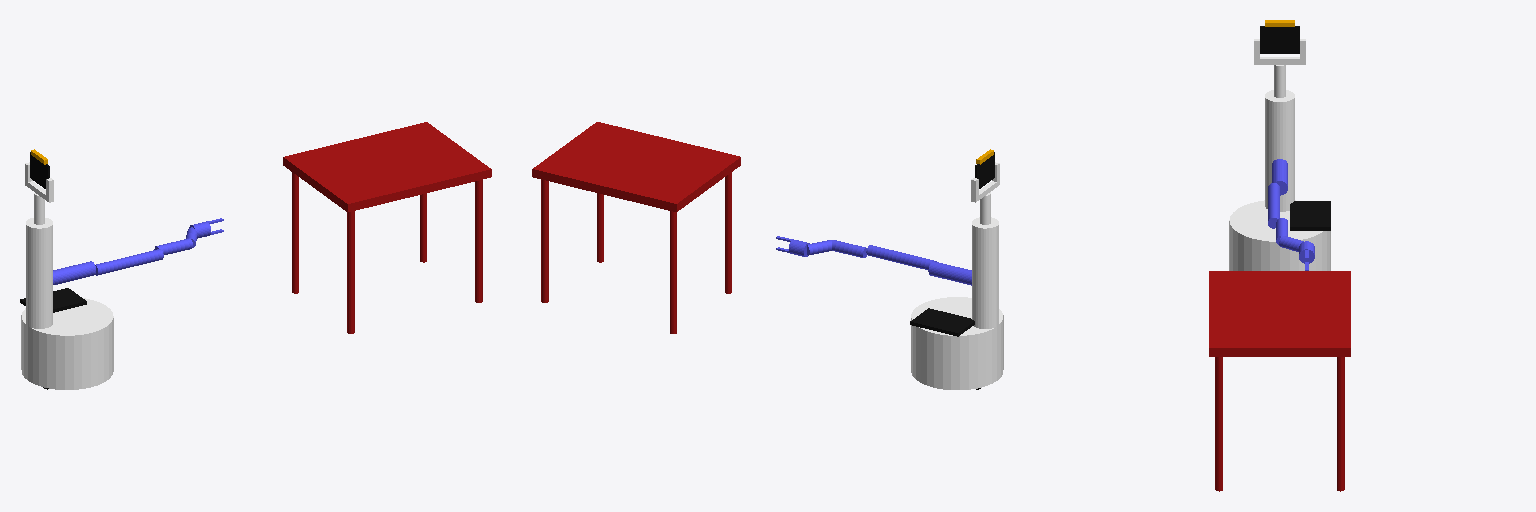
URDF robot description (korus):
<?xml version="1.0" ?>
<!-- =================================================================================== -->
<!-- |    This document was autogenerated by xacro from korus_robosem_base_back_mount_jaco_arm.xacro | -->
<!-- |    EDITING THIS FILE BY HAND IS NOT RECOMMENDED                                 | -->
<!-- =================================================================================== -->
<robot name="korus" xmlns:xacro="http://www.ros.org/wiki/xacro">
  <!-- ************************ omni drive simulation ************************* -->
  <link name="world">
  </link>
  <joint name="omni_drive_x" type="prismatic">
    <parent link="world"/>
    <child link="omni_drive_x_link"/>
    <origin rpy="0 0 0" xyz="-1.0 0 0"/>
    <axis xyz="1 0 0"/>
    <limit effort="10" lower="0.0" upper="2.0" velocity="1.0"/>
  </joint>
  <link name="omni_drive_x_link">
  </link>
  <joint name="omni_drive_y" type="prismatic">
    <parent link="omni_drive_x_link"/>
    <child link="base_footprint"/>
    <origin rpy="0 0 0" xyz="0.0 0 0"/>
    <axis xyz="0 1 0"/>
    <limit effort="10" lower="-1.0" upper="1.0" velocity="1.0"/>
  </joint>
  <!-- ************************ Robot model ************************* -->
  <link name="base_footprint"/>
  <joint name="base_joint" type="fixed">
    <parent link="base_footprint"/>
    <child link="base_link"/>
    <origin rpy="0 0 0" xyz="0.0 0.0 0.075"/>
  </joint>
  <link name="base_link">
    <visual>
      <origin rpy="0 0 0" xyz="0.0 0 0.0875"/>
      <geometry>
        <cylinder length="0.275" radius="0.250"/>
      </geometry>
      <material name="white">
        <color rgba="1 1 1 1"/>
      </material>
    </visual>
    <collision>
      <origin rpy="0 0 0" xyz="0.0 0 0.0875"/>
      <geometry>
        <cylinder length="0.275" radius="0.250"/>
      </geometry>
      <material name="white">
        <color rgba="1 1 1 1"/>
      </material>
    </collision>
  </link>
  <link name="wheel_left">
    <visual>
      <geometry>
        <cylinder length="0.03" radius="0.075"/>
      </geometry>
      <origin rpy="0 1.57079632679 0" xyz="0 0 0"/>
      <material name="black">
        <color rgba="0.1 0.1 0.1 1"/>
      </material>
    </visual>
  </link>
  <joint name="wheel_left" type="continuous">
    <parent link="base_link"/>
    <child link="wheel_left"/>
    <origin rpy="0 0 1.57079632679" xyz="0.0 0.15 0.0"/>
  </joint>
  <link name="wheel_right">
    <visual>
      <geometry>
        <cylinder length="0.03" radius="0.075"/>
      </geometry>
      <origin rpy="0 1.57079632679 0" xyz="0 0 0"/>
      <material name="black">
        <color rgba="0.1 0.1 0.1 1"/>
      </material>
    </visual>
  </link>
  <joint name="wheel_right" type="continuous">
    <parent link="base_link"/>
    <child link="wheel_right"/>
    <origin rpy="0 0 1.57079632679" xyz="0.0 -0.15 0.0"/>
  </joint>
  <link name="caster_front_left">
    <visual>
      <geometry>
        <cylinder length="0.02" radius="0.04"/>
      </geometry>
      <origin rpy="0 1.57079632679 0" xyz="0 0 0"/>
      <material name="black">
        <color rgba="0.1 0.1 0.1 1"/>
      </material>
    </visual>
  </link>
  <joint name="caster_front_left" type="fixed">
    <parent link="base_link"/>
    <child link="caster_front_left"/>
    <origin rpy="0 0 1.57079632679" xyz="0.18 0.1 -0.035"/>
  </joint>
  <link name="caster_front_right">
    <visual>
      <geometry>
        <cylinder length="0.02" radius="0.04"/>
      </geometry>
      <origin rpy="0 1.57079632679 0" xyz="0 0 0"/>
      <material name="black">
        <color rgba="0.1 0.1 0.1 1"/>
      </material>
    </visual>
  </link>
  <joint name="caster_front_right" type="fixed">
    <parent link="base_link"/>
    <child link="caster_front_right"/>
    <origin rpy="0 0 1.57079632679" xyz="0.18 -0.1 -0.035"/>
  </joint>
  <link name="caster_back_left">
    <visual>
      <geometry>
        <cylinder length="0.02" radius="0.04"/>
      </geometry>
      <origin rpy="0 1.57079632679 0" xyz="0 0 0"/>
      <material name="black">
        <color rgba="0.1 0.1 0.1 1"/>
      </material>
    </visual>
  </link>
  <joint name="caster_back_left" type="fixed">
    <parent link="base_link"/>
    <child link="caster_back_left"/>
    <origin rpy="0 0 1.57079632679" xyz="-0.18 0.1 -0.035"/>
  </joint>
  <link name="caster_back_right">
    <visual>
      <geometry>
        <cylinder length="0.02" radius="0.04"/>
      </geometry>
      <origin rpy="0 1.57079632679 0" xyz="0 0 0"/>
      <material name="black">
        <color rgba="0.1 0.1 0.1 1"/>
      </material>
    </visual>
  </link>
  <joint name="caster_back_right" type="fixed">
    <parent link="base_link"/>
    <child link="caster_back_right"/>
    <origin rpy="0 0 1.57079632679" xyz="-0.18 -0.1 -0.035"/>
  </joint>
  <joint name="body" type="revolute">
    <parent link="base_link"/>
    <child link="body_link"/>
    <origin rpy="0 0 0" xyz="0.0 0.0 0.250"/>
    <axis xyz="0 0 1"/>
    <limit effort="10" lower="-3.14159265359" upper="3.14159265359" velocity="0.013"/>
  </joint>
  <link name="body_link">
    <visual>
      <origin rpy="0 0 0" xyz="0.0 0.0 0.0"/>
      <geometry>
        <cylinder length="0.05" radius="0.25"/>
      </geometry>
      <material name="white">
        <color rgba="1 1 1 1"/>
      </material>
    </visual>
    <collision>
      <origin rpy="0 0 0" xyz="0.0 0.0 0.0"/>
      <geometry>
        <cylinder length="0.05" radius="0.25"/>
      </geometry>
      <material name="white">
        <color rgba="1 1 1 1"/>
      </material>
    </collision>
  </link>
  <joint name="tray_joint" type="revolute">
    <parent link="base_link"/>
    <child link="tray_link"/>
    <origin rpy="0 0 0" xyz="0.0 0.0 0.250"/>
    <axis xyz="0 0 1"/>
    <limit effort="10" lower="-3.14159265359" upper="3.14159265359" velocity="0.013"/>
  </joint>
  <link name="tray_link">
    <visual>
      <geometry>
        <box size="0.30 0.20 0.02"/>
      </geometry>
      <origin rpy="0 0.0 0" xyz="0.0 0.15 0.05"/>
      <material name="black">
        <color rgba="0.1 0.1 0.1 1"/>
      </material>
    </visual>
    <collision>
      <geometry>
        <box size="0.30 0.20 0.02"/>
      </geometry>
      <origin rpy="0 0.0 0" xyz="0.0 0.15 0.05"/>
      <material name="black">
        <color rgba="0.1 0.1 0.1 1"/>
      </material>
    </collision>
  </link>
  <joint name="torso_joint" type="fixed">
    <parent link="body_link"/>
    <child link="torso_link"/>
    <origin rpy="0 0 0" xyz="-0.175 0.0 0.025"/>
  </joint>
  <link name="torso_link">
    <visual>
      <geometry>
        <cylinder length="0.60" radius="0.075"/>
      </geometry>
      <origin rpy="0 0 0" xyz="0 0 0.30"/>
      <material name="white">
        <color rgba="1 1 1 1"/>
      </material>
    </visual>
    <collision>
      <geometry>
        <cylinder length="0.60" radius="0.075"/>
      </geometry>
      <origin rpy="0 0 0" xyz="0 0 0.30"/>
    </collision>
  </link>
  <joint name="torso_lift_offset" type="fixed">
    <parent link="torso_link"/>
    <child link="torso_lift_offset_link"/>
    <origin rpy="0 0 0" xyz="0 0 0.25"/>
    <axis xyz="0 0 1"/>
  </joint>
  <link name="torso_lift_offset_link"/>
  <joint name="torso_lift" type="prismatic">
    <parent link="torso_lift_offset_link"/>
    <child link="torso_lift_link"/>
    <origin rpy="0 0 3.14159265359" xyz="0 0 0"/>
    <axis xyz="0 0 1"/>
    <limit effort="10" lower="-0.10" upper="0.22" velocity="0.5"/>
  </joint>
  <link name="torso_lift_link">
    <!--     <visual> -->
    <!--       <geometry> -->
    <!--         <box size="0.10 0.25 0.13"/> -->
    <!--       </geometry> -->
    <!--       <origin xyz="-0.05 0.0 0.0" rpy="0 0 0"/> -->
    <!--       <xacro:insert_block name="material_grey_blue" /> -->
    <!--     </visual> -->
  </link>
  <joint name="head_joint" type="fixed">
    <parent link="torso_lift_link"/>
    <child link="head_link"/>
    <origin rpy="0 0 3.14159265359" xyz="0.0 0.0 0.125"/>
  </joint>
  <link name="head_link">
    <visual>
      <geometry>
        <cylinder length="0.40" radius="0.03"/>
      </geometry>
      <origin rpy="0 0 0" xyz="0.0 0.0 0.2"/>
      <material name="white">
        <color rgba="1 1 1 1"/>
      </material>
    </visual>
  </link>
  <joint name="tablet_pan_joint" type="revolute">
    <parent link="head_link"/>
    <child link="tablet_pan_link"/>
    <origin rpy="0 0 0" xyz="0.0 0.0 0.40"/>
    <axis xyz="0 0 1"/>
    <limit effort="10" lower="-1.57079632679" upper="1.57079632679" velocity="0.013"/>
  </joint>
  <link name="tablet_pan_link">
    <visual>
      <geometry>
        <box size="0.03 0.26 0.03"/>
      </geometry>
      <origin rpy="0.0 0.0 0.0" xyz="0.0 0.0 0.015"/>
      <material name="white">
        <color rgba="1 1 1 1"/>
      </material>
    </visual>
  </link>
  <joint name="tablet_tilt_mount_left_joint" type="fixed">
    <parent link="tablet_pan_link"/>
    <child link="tablet_tilt_mount_left_link"/>
    <origin rpy="0 0 0" xyz="0 0.115 0"/>
  </joint>
  <link name="tablet_tilt_mount_left_link">
    <visual>
      <geometry>
        <box size="0.03 0.03 0.10"/>
      </geometry>
      <origin rpy="0.0 0.0 0.0" xyz="0.0 0.0 0.08"/>
      <material name="white">
        <color rgba="1 1 1 1"/>
      </material>
    </visual>
  </link>
  <joint name="tablet_tilt_mount_right_joint" type="fixed">
    <parent link="tablet_pan_link"/>
    <child link="tablet_tilt_mount_right_link"/>
    <origin rpy="0 0 0" xyz="0 -0.115 0"/>
  </joint>
  <link name="tablet_tilt_mount_right_link">
    <visual>
      <geometry>
        <box size="0.03 0.03 0.10 "/>
      </geometry>
      <origin rpy="0.0 0.0 0.0" xyz="0.0 0.0 0.08"/>
      <material name="white">
        <color rgba="1 1 1 1"/>
      </material>
    </visual>
  </link>
  <joint name="tablet_tilt_joint" type="revolute">
    <parent link="tablet_pan_link"/>
    <child link="tablet_tilt_link"/>
    <origin rpy="1.57079632679 0 0" xyz="0 0 0.13"/>
    <axis xyz="0 0 1"/>
    <limit effort="10" lower="-1.57079632679" upper="1.57079632679" velocity="0.013"/>
  </joint>
  <link name="tablet_tilt_link">
    <visual>
      <geometry>
        <box size="0.01 0.20 0.15"/>
      </geometry>
      <origin rpy="-1.57079632679 0.0 0.0" xyz="0.0 0.0 0.0"/>
      <material name="black">
        <color rgba="0.1 0.1 0.1 1"/>
      </material>
    </visual>
  </link>
  <joint name="asus_tilt_joint" type="fixed">
    <parent link="tablet_tilt_link"/>
    <child link="asus_link"/>
    <origin rpy="0 0 0" xyz="0.0 0.0875 0.0"/>
  </joint>
  <link name="asus_link">
    <visual>
      <geometry>
        <box size="0.025 0.025 0.15"/>
      </geometry>
      <origin rpy="0 0 0" xyz="0.0 0.0 0.0"/>
      <material name="orange">
        <color rgba="1.0 0.7 0.0 1"/>
      </material>
    </visual>
  </link>
  <!-- ************************ Arm model ************************* -->
  <joint name="shoulder_roll" type="revolute">
    <parent link="torso_lift_link"/>
    <child link="shoulder_roll_link"/>
    <origin rpy="3.14159265359 1.57079632679 0.0" xyz="-0.06 -0.0 0"/>
    <axis xyz="0 0 1"/>
    <limit effort="10" lower="-9.42477796077" upper="9.42477796077" velocity="0.84"/>
  </joint>
  <link name="shoulder_roll_link">
    <visual>
      <geometry>
        <cylinder length="0.2725" radius="0.04"/>
      </geometry>
      <origin rpy="0 0 0" xyz="0.0 0.0 0.13625"/>
      <material name="grey_blue">
        <color rgba="0.4 0.4 1.0 1"/>
      </material>
    </visual>
    <collision>
      <geometry>
        <cylinder length="0.2725" radius="0.04"/>
      </geometry>
      <origin rpy="0 0 0" xyz="0.0 0.0 0.13625"/>
    </collision>
  </link>
  <joint name="shoulder_pitch" type="revolute">
    <parent link="shoulder_roll_link"/>
    <child link="shoulder_pitch_link"/>
    <origin rpy="-1.57079632679 1.57079632679 0.0" xyz="0.0 0.0 0.2725"/>
    <axis xyz="0 0 1"/>
    <limit effort="10" lower="0.73" upper="5.55" velocity="0.84"/>
  </joint>
  <link name="shoulder_pitch_link">
    <visual>
      <geometry>
        <cylinder length="0.410" radius="0.03"/>
      </geometry>
      <origin rpy="0 1.57079632679 0" xyz="0.205 0.0 -0.03"/>
      <material name="grey_blue">
        <color rgba="0.4 0.4 1.0 1"/>
      </material>
    </visual>
    <collision>
      <geometry>
        <cylinder length="0.410" radius="0.03"/>
      </geometry>
      <origin rpy="0 1.57079632679 0" xyz="0.205 0.0 -0.03"/>
    </collision>
  </link>
  <joint name="elbow_pitch" type="revolute">
    <parent link="shoulder_pitch_link"/>
    <child link="elbow_pitch_link"/>
    <origin rpy="0 0 3.14159265359" xyz="0.410 0.0 0.0113"/>
    <axis xyz="0 0 1"/>
    <limit effort="10" lower="0.3" upper="6.0" velocity="0.84"/>
  </joint>
  <link name="elbow_pitch_link">
    <visual>
      <geometry>
        <cylinder length="0.2073" radius="0.03"/>
      </geometry>
      <origin rpy="0 1.57079632679 0" xyz="0.10365 0.0 0.0"/>
      <material name="grey_blue">
        <color rgba="0.4 0.4 1.0 1"/>
      </material>
    </visual>
    <collision>
      <geometry>
        <cylinder length="0.2073" radius="0.03"/>
      </geometry>
      <origin rpy="0 1.57079632679 0" xyz="0.10365 0.0 0.0"/>
    </collision>
  </link>
  <joint name="wrist_pitch" type="revolute">
    <parent link="elbow_pitch_link"/>
    <child link="wrist_pitch_link"/>
    <origin rpy="0.0 -1.57079632679 -3.14159265359" xyz="0.2073 0.0 0.0"/>
    <axis xyz="0 0 1"/>
    <limit effort="10" lower="-9.42477796077" upper="9.42477796077" velocity="0.84"/>
  </joint>
  <link name="wrist_pitch_link">
  </link>
  <joint name="wrist_pitch_intermediate" type="fixed">
    <parent link="wrist_pitch_link"/>
    <child link="wrist_pitch_intermediate_link"/>
    <origin rpy="0 0.96 0" xyz="0.0 0.0 0.0"/>
  </joint>
  <link name="wrist_pitch_intermediate_link">
    <visual>
      <geometry>
        <cylinder length="0.074" radius="0.03"/>
      </geometry>
      <origin rpy="0 0 0" xyz="0.0 0.0 0.037"/>
      <material name="grey_blue">
        <color rgba="0.4 0.4 1.0 1"/>
      </material>
    </visual>
    <collision>
      <geometry>
        <cylinder length="0.074" radius="0.03"/>
      </geometry>
      <origin rpy="0 0 0" xyz="0.0 0.0 0.037"/>
    </collision>
  </link>
  <joint name="wrist_roll" type="revolute">
    <parent link="wrist_pitch_intermediate_link"/>
    <child link="wrist_roll_link"/>
    <origin rpy="0.0 0.0 0.0" xyz="0.0 0.0 0.074"/>
    <axis xyz="0 0 1"/>
    <limit effort="10" lower="-9.42477796077" upper="9.42477796077" velocity="0.84"/>
  </joint>
  <link name="wrist_roll_link">
    <visual>
      <geometry>
        <cylinder length="0.074" radius="0.03"/>
      </geometry>
      <origin rpy="0 0 0" xyz="0.0 0.0 0.037"/>
      <material name="grey_blue">
        <color rgba="0.4 0.4 1.0 1"/>
      </material>
    </visual>
    <collision>
      <geometry>
        <cylinder length="0.074" radius="0.03"/>
      </geometry>
      <origin rpy="0 0 0" xyz="0.0 0.0 0.037"/>
    </collision>
  </link>
  <joint name="wrist_yaw" type="revolute">
    <parent link="wrist_roll_link"/>
    <child link="wrist_yaw_link"/>
    <origin rpy="0.0 -0.96 0.0" xyz="0 0 0.074"/>
    <axis xyz="0 0 1"/>
    <limit effort="10" lower="-9.42477796077" upper="9.42477796077" velocity="0.84"/>
  </joint>
  <link name="wrist_yaw_link">
    <visual>
      <geometry>
        <cylinder length="0.094" radius="0.04"/>
      </geometry>
      <origin rpy="0 0 0" xyz="0.0 0.0 0.047"/>
      <material name="grey_blue">
        <color rgba="0.4 0.4 1.0 1"/>
      </material>
    </visual>
    <collision>
      <geometry>
        <cylinder length="0.094" radius="0.04"/>
      </geometry>
      <origin rpy="0 0 0" xyz="0.0 0.0 0.047"/>
    </collision>
  </link>
  <joint name="gripper_palm" type="fixed">
    <parent link="wrist_yaw_link"/>
    <child link="gripper_palm_link"/>
    <origin rpy="0.0 0.0 0.0" xyz="0.0 0 0.094"/>
  </joint>
  <link name="gripper_palm_link">
  </link>
  <joint name="gripper_left_finger_joint" type="prismatic">
    <parent link="gripper_palm_link"/>
    <child link="gripper_left_finger_tip_link"/>
    <origin rpy="-1.57079632679 0.0 0.0" xyz="0.0 -0.038 0.0"/>
    <axis xyz="0 0 1"/>
    <limit effort="10" lower="0.0" upper="0.04" velocity="0.84"/>
  </joint>
  <link name="gripper_left_finger_tip_link">
    <visual>
      <geometry>
        <box size="0.02 -0.094 0.01"/>
      </geometry>
      <origin rpy="0 0 0" xyz="0.0 -0.047 0.005"/>
      <material name="grey_blue">
        <color rgba="0.4 0.4 1.0 1"/>
      </material>
    </visual>
    <collision>
      <geometry>
        <box size="0.02 -0.094 0.01"/>
      </geometry>
      <origin rpy="0 0 0" xyz="0.0 -0.047 0.005"/>
    </collision>
  </link>
  <joint name="gripper_right_finger_joint" type="prismatic">
    <parent link="gripper_palm_link"/>
    <child link="gripper_right_finger_tip_link"/>
    <origin rpy="1.57079632679 0.0 0.0" xyz="0.0 0.038 0.0"/>
    <axis xyz="0 0 1"/>
    <limit effort="10" lower="0.0" upper="0.04" velocity="0.5"/>
  </joint>
  <link name="gripper_right_finger_tip_link">
    <visual>
      <geometry>
        <box size="0.02 0.094 0.01"/>
      </geometry>
      <origin rpy="0 0 0" xyz="0.0 0.047 0.005"/>
      <material name="grey_blue">
        <color rgba="0.4 0.4 1.0 1"/>
      </material>
    </visual>
    <collision>
      <geometry>
        <box size="0.02 0.094 0.01"/>
      </geometry>
      <origin rpy="0 0 0" xyz="0.0 0.047 0.005"/>
    </collision>
  </link>
  <!-- ************************ Table model ************************* -->
  <joint name="table_bottom_center_joint" type="fixed">
    <parent link="world"/>
    <child link="table_bottom_center_link"/>
    <origin rpy="0 0 0" xyz="1.00 0.0 0"/>
  </joint>
  <link name="table_bottom_center_link">
	  </link>
  <joint name="table_foot_front_right_bottom_joint" type="fixed">
    <parent link="table_bottom_center_link"/>
    <child link="table_foot_front_right_bottom_link"/>
    <origin rpy="0 0 0" xyz="0.4 0.3 0.0"/>
  </joint>
  <link name="table_foot_front_right_bottom_link">
    <visual>
      <origin rpy="0 0 0" xyz="0.0 0 0.20"/>
      <geometry>
        <cylinder length="0.40" radius="0.02"/>
      </geometry>
      <material name="black">
        <color rgba="0.7 0.1 0.1 1"/>
      </material>
    </visual>
    <collision>
      <origin rpy="0 0 0" xyz="0.0 0 0.20"/>
      <geometry>
        <cylinder length="0.40" radius="0.02"/>
      </geometry>
    </collision>
  </link>
  <joint name="table_foot_front_right_top_joint" type="prismatic">
    <parent link="table_foot_front_right_bottom_link"/>
    <child link="table_foot_front_right_link"/>
    <origin rpy="0 0 0" xyz="0 0 0.4"/>
    <axis xyz="0 0 1"/>
    <limit effort="10" lower="-0.4" upper="0.0" velocity="0.4"/>
  </joint>
  <link name="table_foot_front_right_link">
    <visual>
      <origin rpy="0 0 0" xyz="0.0 0 0.20"/>
      <geometry>
        <cylinder length="0.40" radius="0.02"/>
      </geometry>
      <material name="black">
        <color rgba="0.7 0.1 0.1 1"/>
      </material>
    </visual>
    <collision>
      <origin rpy="0 0 0" xyz="0.0 0 0.20"/>
      <geometry>
        <cylinder length="0.40" radius="0.02"/>
      </geometry>
    </collision>
  </link>
  <joint name="table_foot_front_left_joint" type="fixed">
    <parent link="table_bottom_center_link"/>
    <child link="table_foot_front_left_link"/>
    <origin rpy="0 0 0" xyz="0.4 -0.3 0"/>
  </joint>
  <link name="table_foot_front_left_link">
    <visual>
      <origin rpy="0 0 0" xyz="0.0 0 0.375"/>
      <geometry>
        <cylinder length="0.75" radius="0.02"/>
      </geometry>
      <material name="black">
        <color rgba="0.7 0.1 0.1 1"/>
      </material>
    </visual>
    <collision>
      <origin rpy="0 0 0" xyz="0.0 0 0.375"/>
      <geometry>
        <cylinder length="0.75" radius="0.02"/>
      </geometry>
    </collision>
  </link>
  <joint name="table_foot_back_right_joint" type="fixed">
    <parent link="table_bottom_center_link"/>
    <child link="table_foot_back_right_link"/>
    <origin rpy="0 0 0" xyz="-0.4 0.3 0"/>
  </joint>
  <link name="table_foot_back_right_link">
    <visual>
      <geometry>
        <cylinder length="0.75" radius="0.02"/>
      </geometry>
      <origin rpy="0 0 0" xyz="0.0 0 0.375"/>
      <material name="black">
        <color rgba="0.7 0.1 0.1 1"/>
      </material>
    </visual>
    <collision>
      <geometry>
        <cylinder length="0.75" radius="0.02"/>
      </geometry>
      <origin rpy="0 0 0" xyz="0.0 0 0.375"/>
    </collision>
  </link>
  <joint name="table_foot_back_left_joint" type="fixed">
    <parent link="table_bottom_center_link"/>
    <child link="table_foot_back_left_link"/>
    <origin rpy="0 0 0" xyz="-0.4 -0.3 0"/>
  </joint>
  <link name="table_foot_back_left_link">
    <visual>
      <geometry>
        <cylinder length="0.75" radius="0.02"/>
      </geometry>
      <origin rpy="0 0 0" xyz="0.0 0 0.375"/>
      <material name="black">
        <color rgba="0.7 0.1 0.1 1"/>
      </material>
    </visual>
    <collision>
      <geometry>
        <cylinder length="0.75" radius="0.02"/>
      </geometry>
      <origin rpy="0 0 0" xyz="0.0 0 0.375"/>
    </collision>
  </link>
  <joint name="table_top_center_joint" type="prismatic">
    <parent link="table_bottom_center_link"/>
    <child link="table_top_center_link"/>
    <origin rpy="0 0 0" xyz="0.0 0.0 0.80"/>
    <axis xyz="0 0 1"/>
    <limit effort="10" lower="-0.4" upper="0.0" velocity="0.4"/>
  </joint>
  <link name="table_top_center_link">
    <visual>
      <geometry>
        <box size="0.90 0.70 0.05"/>
      </geometry>
      <origin rpy="0 0.0 0" xyz="0.0 0.0 -0.025"/>
      <material name="black">
        <color rgba="0.7 0.1 0.1 1"/>
      </material>
    </visual>
    <collision>
      <geometry>
        <box size="0.90 0.70 0.05"/>
      </geometry>
      <origin rpy="0 0.0 0" xyz="0.0 0.0 -0.025"/>
    </collision>
  </link>
</robot>

--- Facts derived from the render (not from the file) ---
Views: 3 orthographic renders of the robot side by side, from view 1: azimuth 30°, elevation 25°; view 2: azimuth 150°, elevation 25°; view 3: azimuth 270°, elevation 25°.
Model korus with 38 links and 37 joints (10 revolute, 2 continuous, 7 prismatic, 18 fixed), rooted at world, posed joints at zero except 2 at the middle of their limits (shoulder_pitch = 3.14, elbow_pitch = 3.15).
Visible links, largest first — view 1: table_top_center_link, base_link, torso_link, body_link, table_foot_front_left_link, table_foot_back_left_link, table_foot_back_right_link, shoulder_pitch_link, shoulder_roll_link, tray_link; view 2: table_top_center_link, base_link, torso_link, body_link, tray_link, table_foot_back_right_link, table_foot_back_left_link, shoulder_pitch_link, shoulder_roll_link, table_foot_front_right_bottom_link; view 3: table_top_center_link, torso_link, base_link, body_link, tray_link, tablet_tilt_link, table_foot_front_left_link, table_foot_front_right_bottom_link.
Link boxes in pixels (x1=…): table_top_center_link: x1=283, y1=122, x2=491, y2=211; base_link: x1=21, y1=324, x2=113, y2=389; torso_link: x1=26, y1=218, x2=52, y2=328; body_link: x1=21, y1=298, x2=113, y2=343; table_foot_front_left_link: x1=475, y1=180, x2=482, y2=302; table_foot_back_left_link: x1=347, y1=211, x2=354, y2=333; table_foot_back_right_link: x1=292, y1=172, x2=298, y2=293; shoulder_pitch_link: x1=95, y1=249, x2=163, y2=275; shoulder_roll_link: x1=53, y1=261, x2=95, y2=284; tray_link: x1=20, y1=288, x2=86, y2=312; table_top_center_link: x1=532, y1=122, x2=740, y2=211; base_link: x1=911, y1=324, x2=1003, y2=389; torso_link: x1=972, y1=217, x2=998, y2=328; body_link: x1=911, y1=297, x2=1003, y2=343; tray_link: x1=910, y1=308, x2=974, y2=336; table_foot_back_right_link: x1=670, y1=211, x2=676, y2=333; table_foot_back_left_link: x1=725, y1=172, x2=731, y2=293; shoulder_pitch_link: x1=866, y1=245, x2=936, y2=269; shoulder_roll_link: x1=928, y1=261, x2=971, y2=285; table_foot_front_right_bottom_link: x1=541, y1=235, x2=548, y2=302; table_top_center_link: x1=1209, y1=271, x2=1350, y2=356; torso_link: x1=1265, y1=90, x2=1294, y2=211; base_link: x1=1229, y1=230, x2=1330, y2=270; body_link: x1=1229, y1=200, x2=1329, y2=250; tray_link: x1=1290, y1=201, x2=1330, y2=230; tablet_tilt_link: x1=1260, y1=26, x2=1299, y2=53; table_foot_front_left_link: x1=1215, y1=357, x2=1222, y2=491; table_foot_front_right_bottom_link: x1=1337, y1=417, x2=1344, y2=491.
Bounding box of the posed robot: 2.7 × 0.7 × 1.35 m (x, y, z).
Geometry: primitives only (box / cylinder / sphere), no mesh files.
